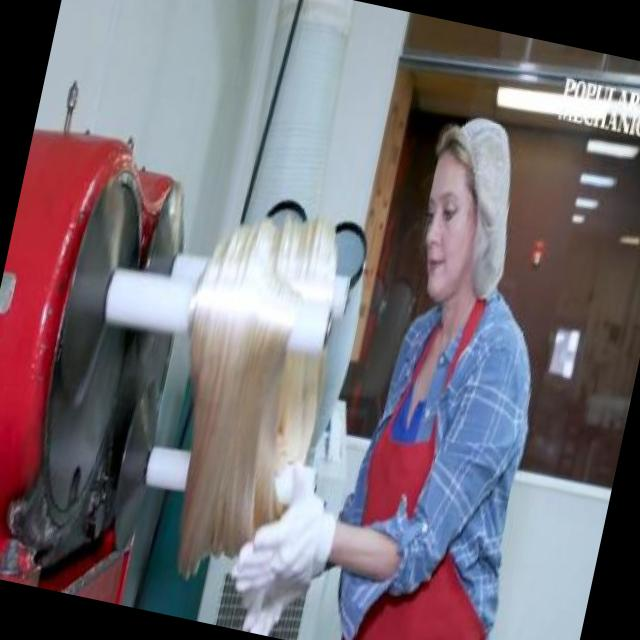hairnet: (430, 112, 524, 205)
